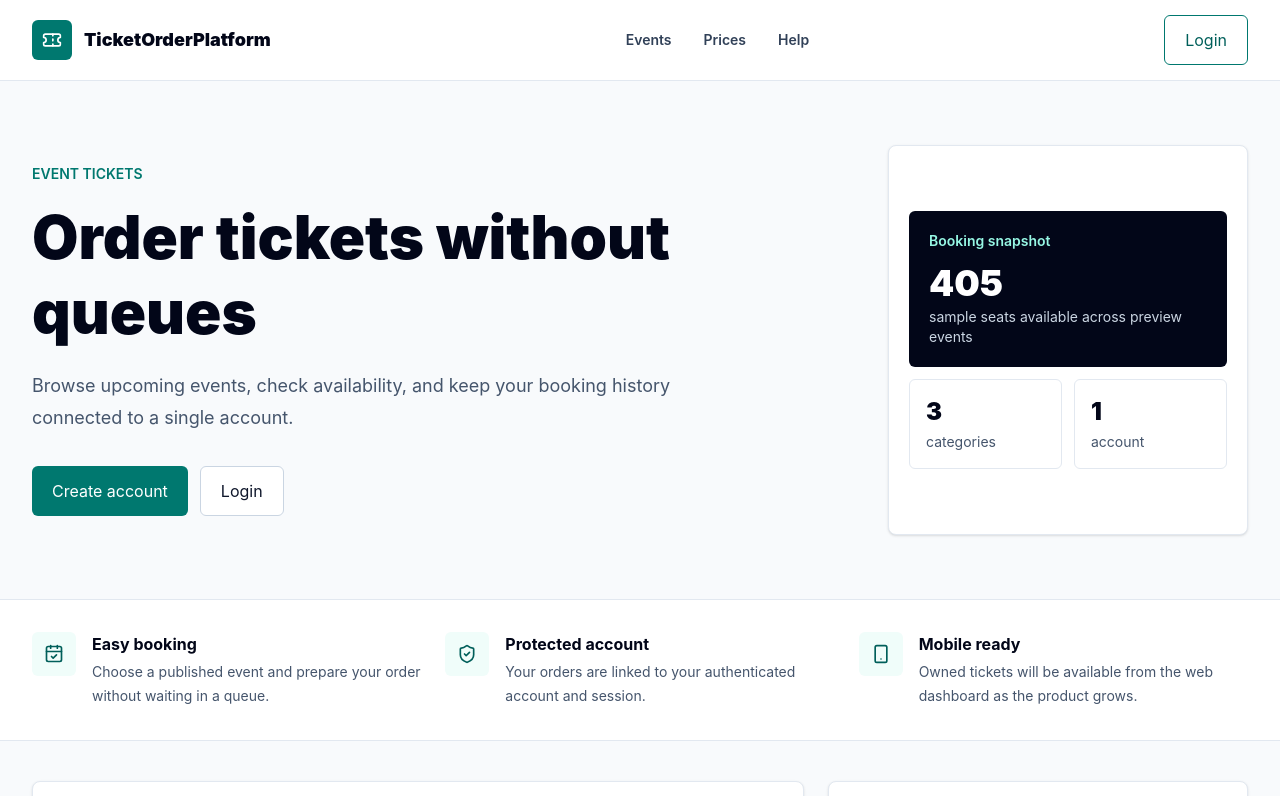
Scenario: App › logs in through the auth panel and shows the current user
Click the button "Login" in the row of "Help". click: (1206, 40)
box: [1164,15,1248,65]
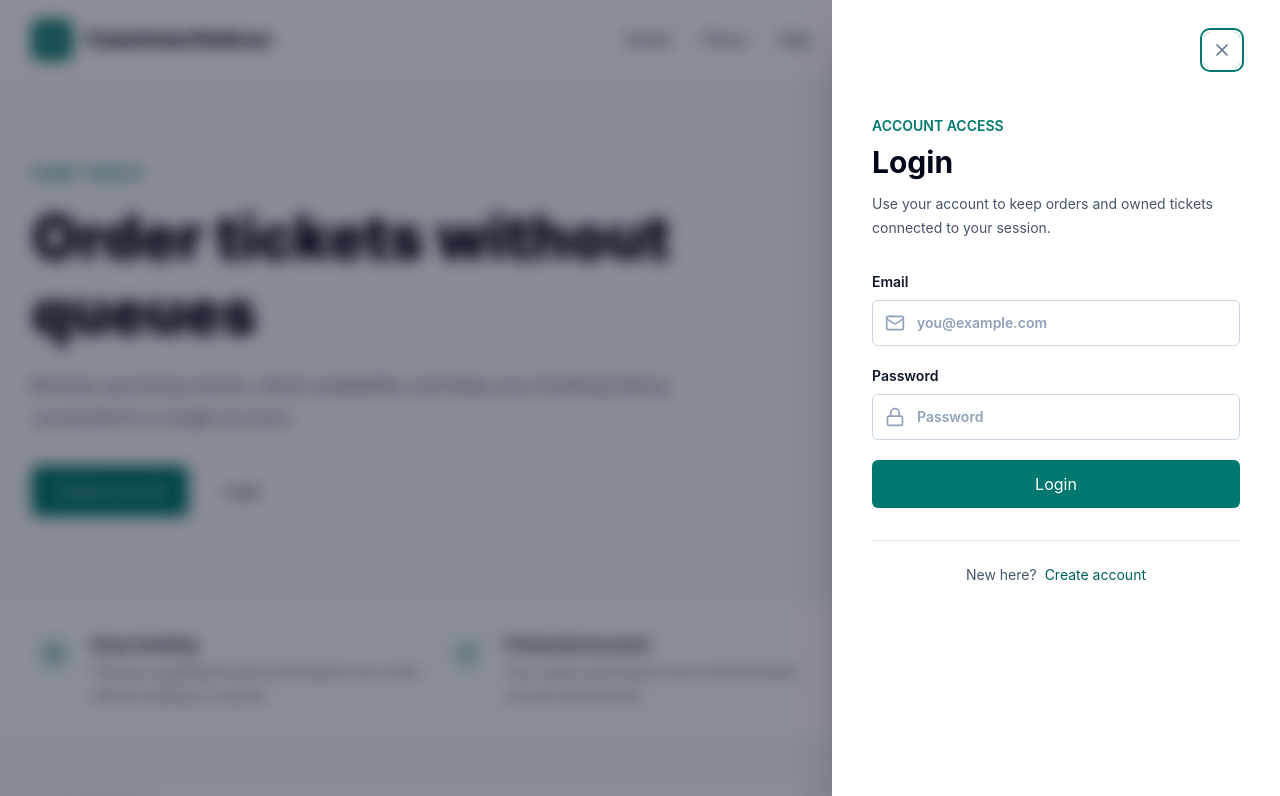
Type "buyer@example.com" into the field labelled "Email". click: (1072, 323)
box: [917,313,1227,333]
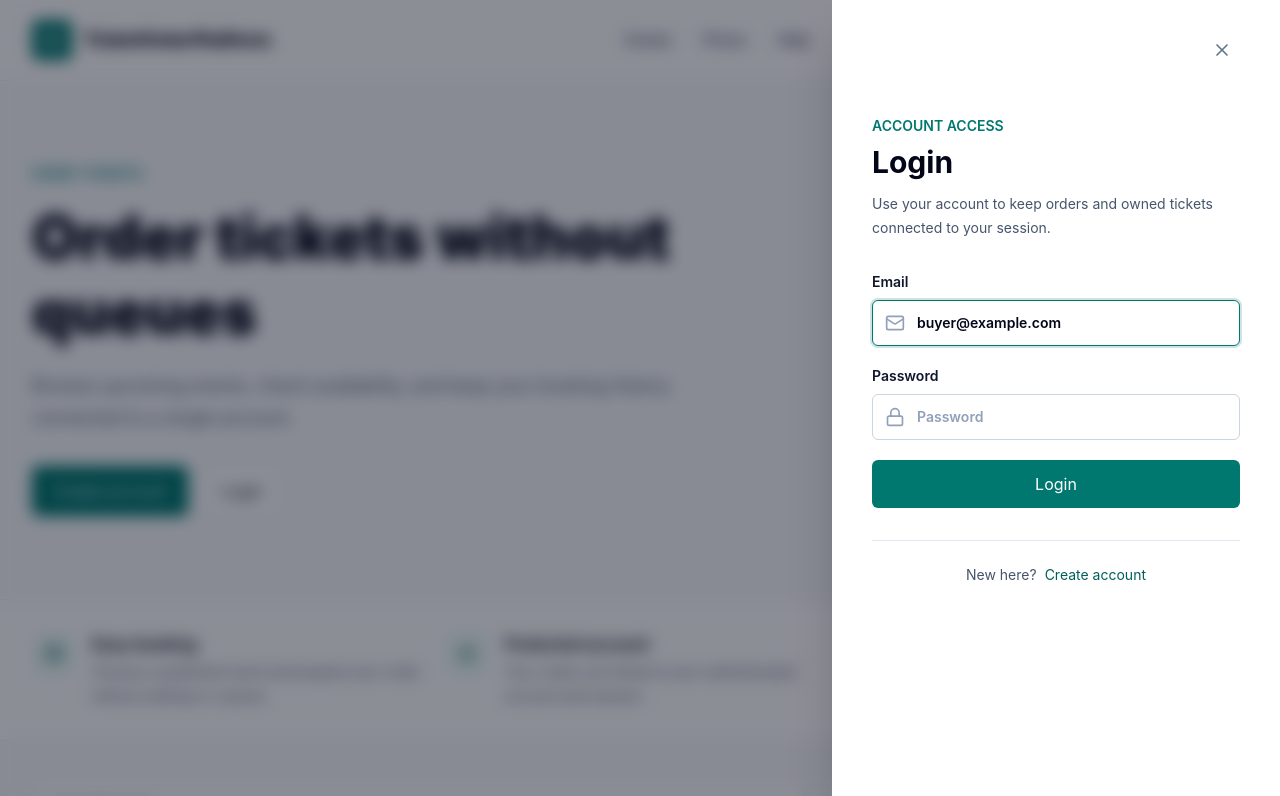
Type "correct-password" into the password field labelled "Password". click: (1072, 417)
box: [917,407,1227,427]
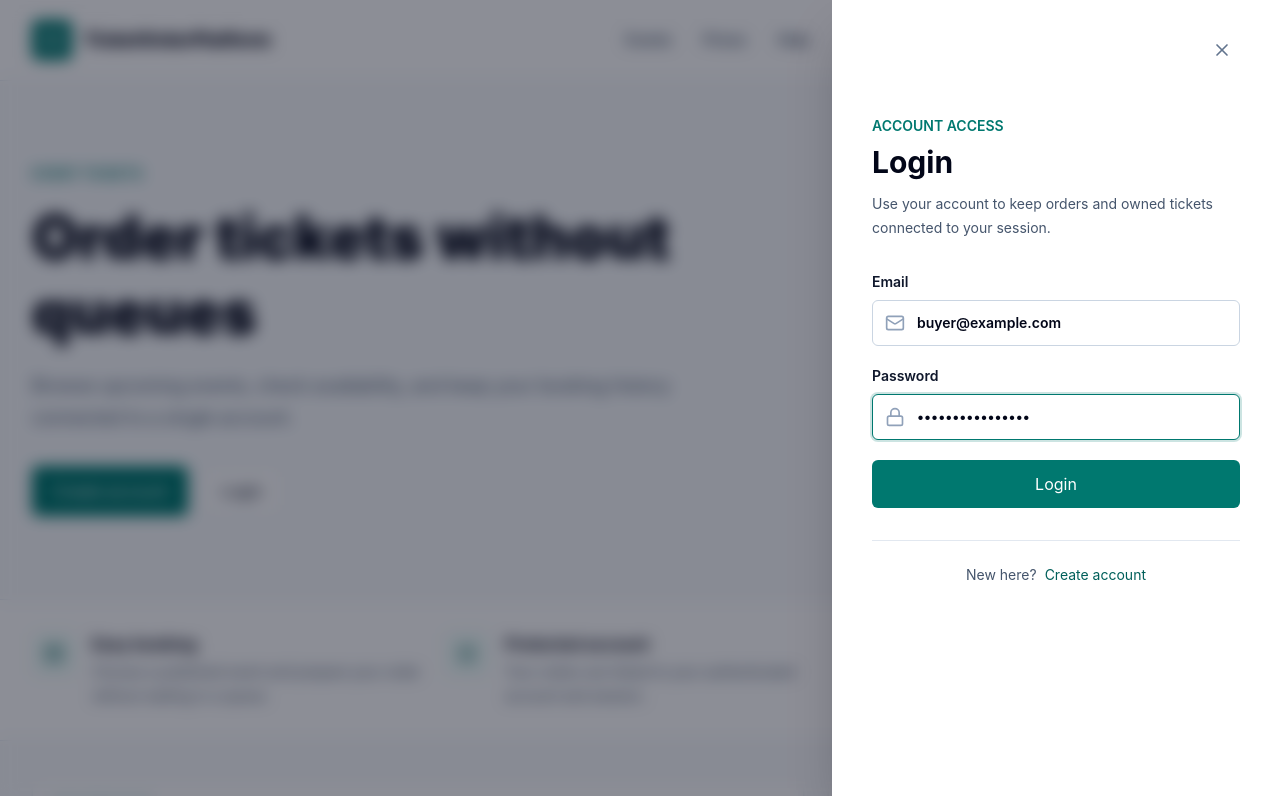
Click the button "Login". click: (1056, 484)
box: [872,460,1240,508]
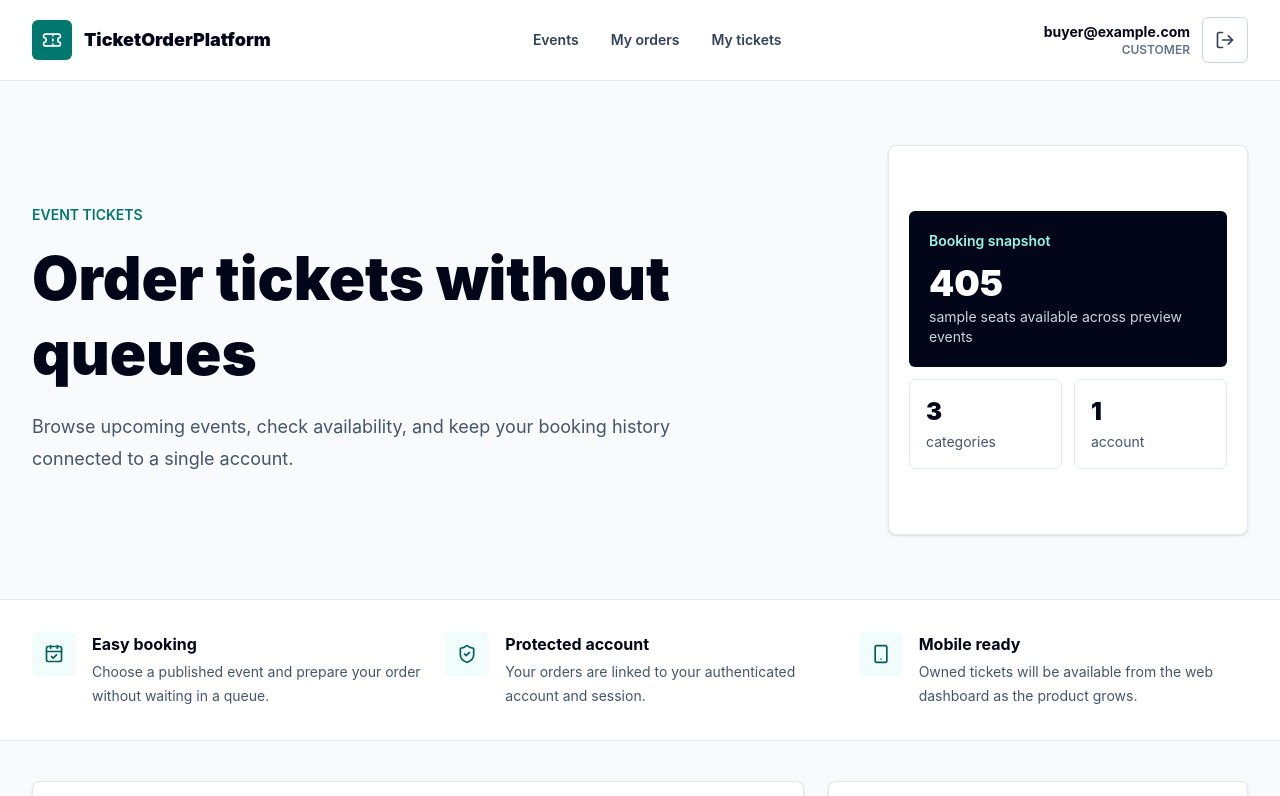
Expected: the text "buyer@example.com" is shown, [1044,22,1190,42]
Expected: the text "CUSTOMER" is shown, [1122,42,1190,57]
Expected: the button "Create account" is gone
